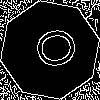O: (25, 25, 78, 73)
